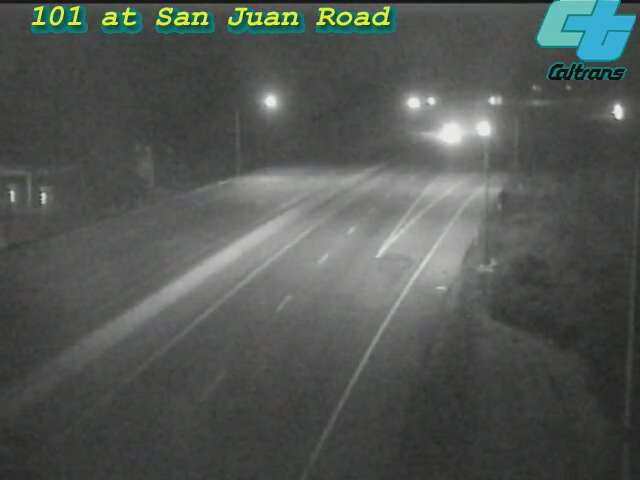vehicle: (425, 108, 475, 158), (460, 104, 510, 154), (593, 87, 640, 137)
